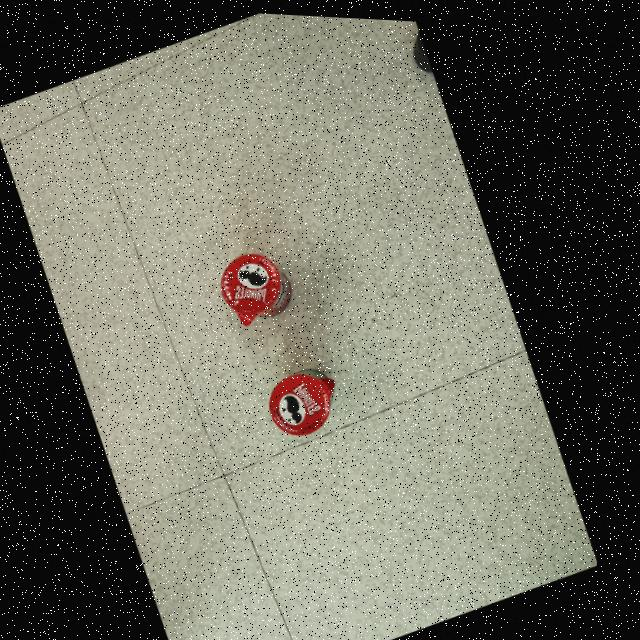canSnack: (225, 249, 296, 321), (275, 364, 341, 430)
